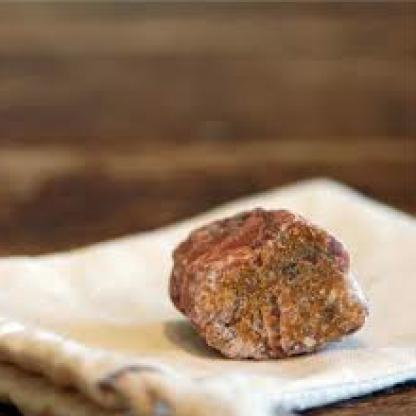Metamorphic_Marble: (164, 200, 376, 367)
